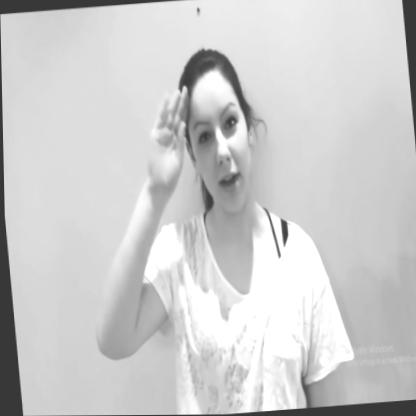Hello: (134, 38, 278, 252)
